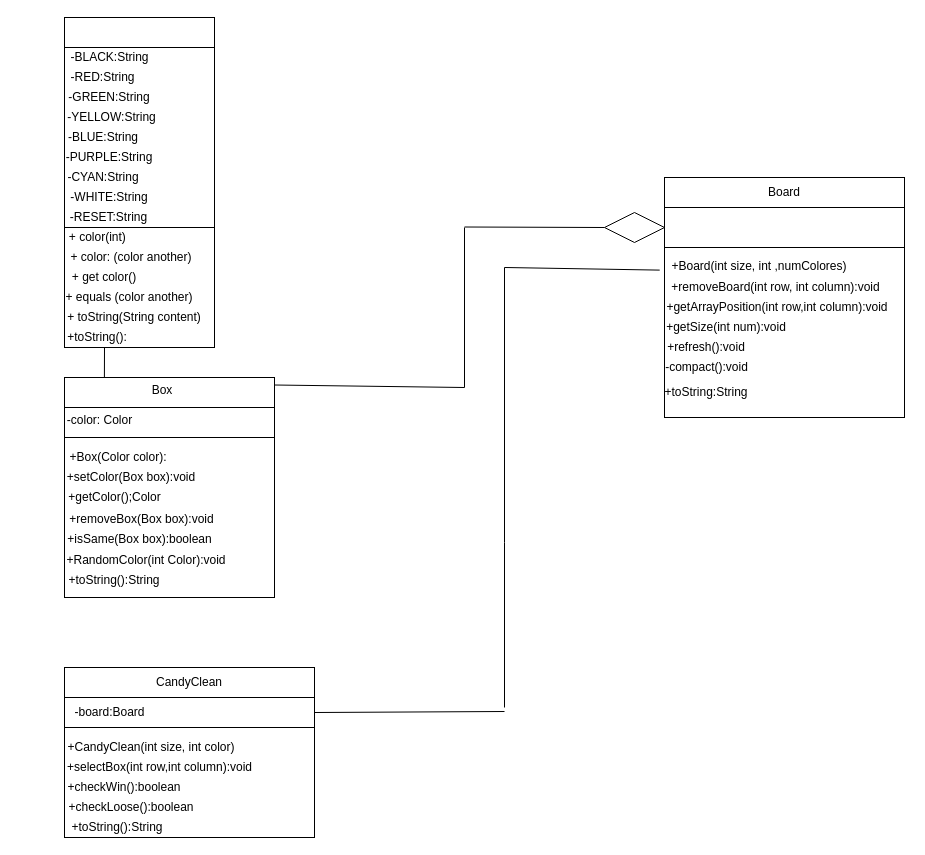
Some shapes in this 925 by 855 pixel diagram are drawn without their labels. Here are the shapes that lost their labels. From the top down, the centre of each, then its label:
At pixel 139 32: "Color".
At pixel 784 227: "-board:box[][]".
